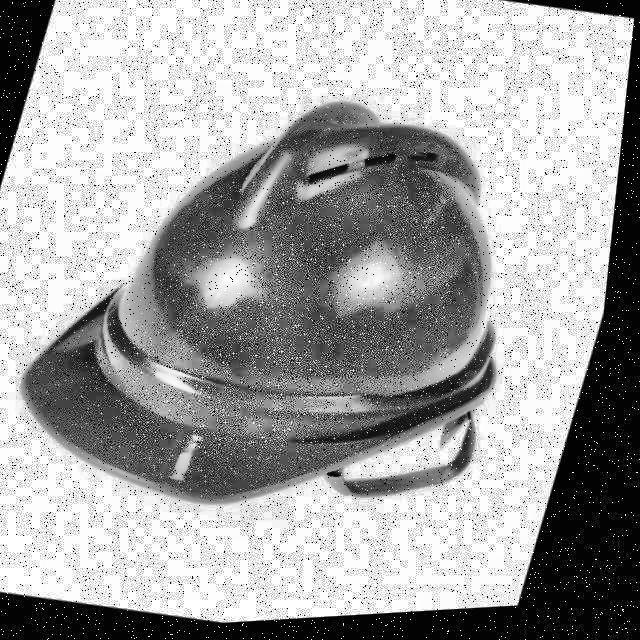Helmet: (0, 39, 590, 572)
